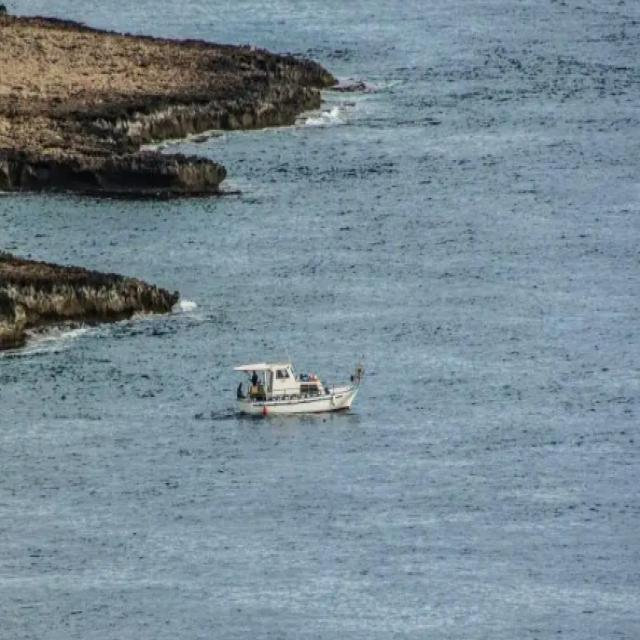houseboat: (225, 356, 358, 414)
